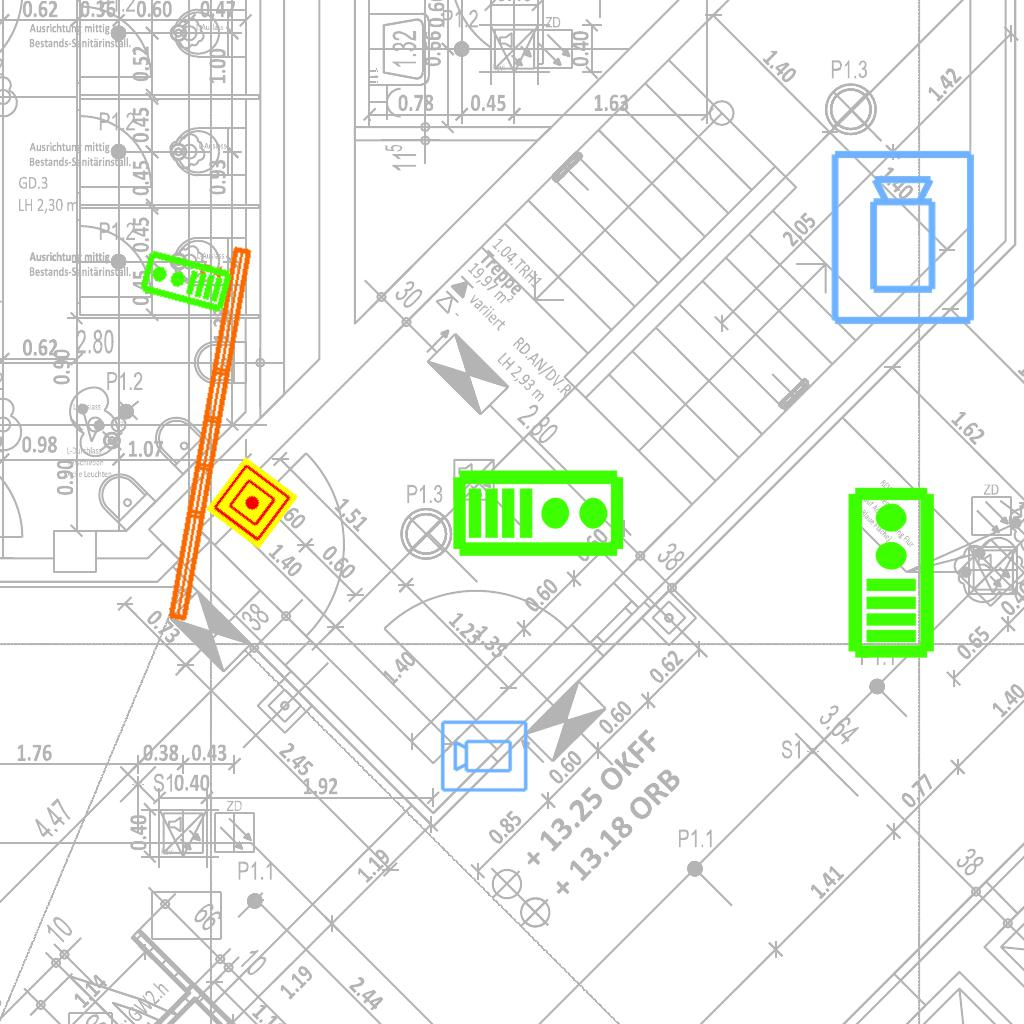Ambulanz_Pendelleuchte_LED: (136, 236, 259, 628)
Gegensprechanlage_mit_Video: (842, 484, 937, 660), (451, 464, 627, 559), (136, 247, 235, 317)
KFO_Kamera_mit_Festobjektiv: (827, 147, 981, 329), (439, 717, 530, 794)
NAM-Nichtautomatischer_Melder: (205, 456, 299, 550)
